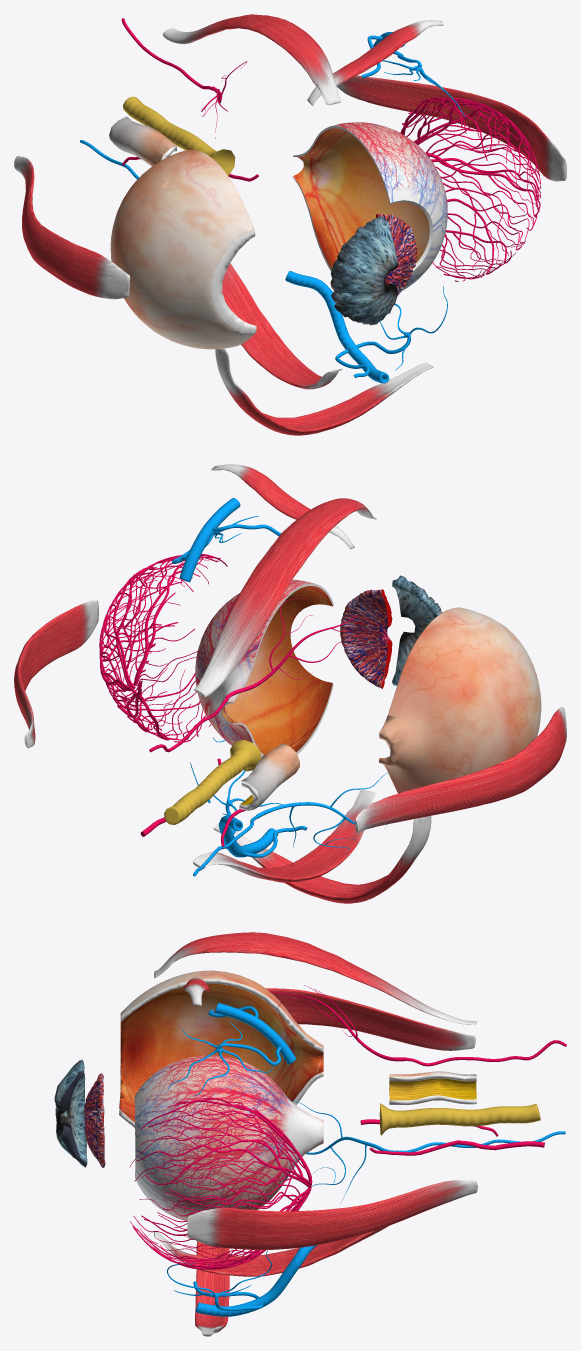
The model's file is EyeAnatomy.glb.
3 views of the same model, one above another, from view 1: azimuth 30°, elevation 25°; view 2: azimuth 150°, elevation 25°; view 3: azimuth 270°, elevation 25° (orthographic). The views are drawn at different scales.
Visible parts, largest first — view 1: eye_sphere_outside, eye_sphere_inside, half_veins, muscle_6, cornea_outside, muscle_1, muscle_4, muscle_5, muscle_3, vein_down, nerv_element_4, nerv_element_3 (+4 smaller); view 2: eye_sphere_outside, eye_sphere_inside, muscle_3, muscle_1, half_veins, muscle_6, cornea_inside, muscle_5, muscle_4, nerv_element_4, cornea_outside, nerv_element_3 (+5 smaller); view 3: eye_sphere_inside, eye_sphere_outside, muscle_6, half_veins, muscle_1, muscle_3, nerv_element_4, muscle_5, nerv_element_3, cornea_outside, vein_down, vein_up (+5 smaller).
Boxes of the visible parts, bbox=[...] form: eye_sphere_outside: bbox=[110, 149, 256, 349]; eye_sphere_inside: bbox=[292, 122, 447, 290]; half_veins: bbox=[400, 97, 541, 281]; muscle_6: bbox=[336, 75, 566, 181]; cornea_outside: bbox=[330, 216, 397, 325]; muscle_1: bbox=[14, 156, 130, 299]; muscle_4: bbox=[215, 348, 433, 435]; muscle_5: bbox=[222, 263, 342, 389]; muscle_3: bbox=[163, 14, 340, 105]; vein_down: bbox=[285, 271, 447, 383]; nerv_element_4: bbox=[123, 96, 235, 175]; nerv_element_3: bbox=[109, 116, 176, 166]; eye_sphere_outside: bbox=[379, 607, 541, 793]; eye_sphere_inside: bbox=[195, 579, 333, 757]; muscle_3: bbox=[193, 498, 376, 696]; muscle_1: bbox=[355, 706, 566, 833]; half_veins: bbox=[99, 554, 227, 742]; muscle_6: bbox=[14, 600, 98, 748]; cornea_inside: bbox=[340, 589, 392, 688]; muscle_5: bbox=[192, 789, 375, 882]; muscle_4: bbox=[213, 816, 431, 903]; nerv_element_4: bbox=[164, 740, 261, 824]; cornea_outside: bbox=[392, 575, 442, 685]; nerv_element_3: bbox=[239, 743, 299, 810]; eye_sphere_inside: bbox=[134, 1055, 323, 1220]; eye_sphere_outside: bbox=[119, 970, 323, 1127]; muscle_6: bbox=[187, 1180, 477, 1249]; half_veins: bbox=[130, 1097, 312, 1269]; muscle_1: bbox=[266, 988, 475, 1050]; muscle_3: bbox=[154, 932, 476, 1024]; nerv_element_4: bbox=[379, 1103, 540, 1135]; muscle_5: bbox=[154, 1225, 389, 1276]; nerv_element_3: bbox=[389, 1071, 476, 1104]; cornea_outside: bbox=[54, 1059, 87, 1167]; vein_down: bbox=[167, 1245, 317, 1316]; vein_up: bbox=[167, 1003, 295, 1096].
Size of the model in its own units: 11.79 by 9.04 by 11.99.
Materials: 9 (5 with a texture image).
